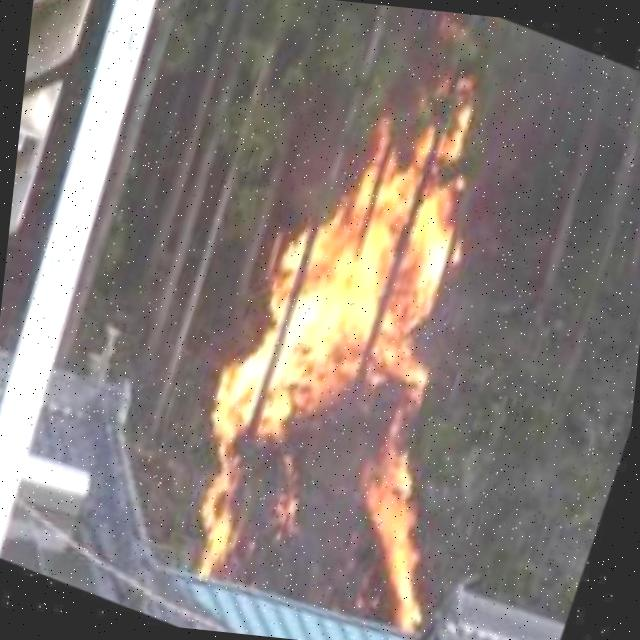fire: (175, 0, 491, 623)
